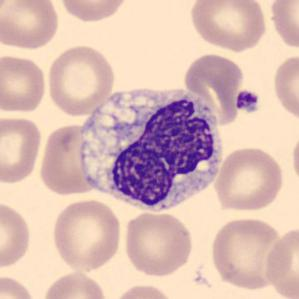Monocyte: (68, 82, 228, 218)
Platelets: (234, 88, 262, 115)
RBC: (208, 215, 290, 291), (50, 197, 123, 273), (45, 42, 117, 117), (212, 144, 286, 213), (121, 210, 195, 278), (36, 121, 100, 198), (181, 50, 245, 126), (187, 0, 269, 53), (0, 113, 43, 186), (0, 0, 61, 51), (0, 53, 48, 115), (262, 224, 299, 299), (0, 200, 33, 270), (270, 51, 299, 122), (41, 269, 109, 299), (57, 0, 132, 24), (267, 0, 299, 51), (109, 281, 176, 299), (0, 273, 38, 298), (289, 128, 299, 189)
